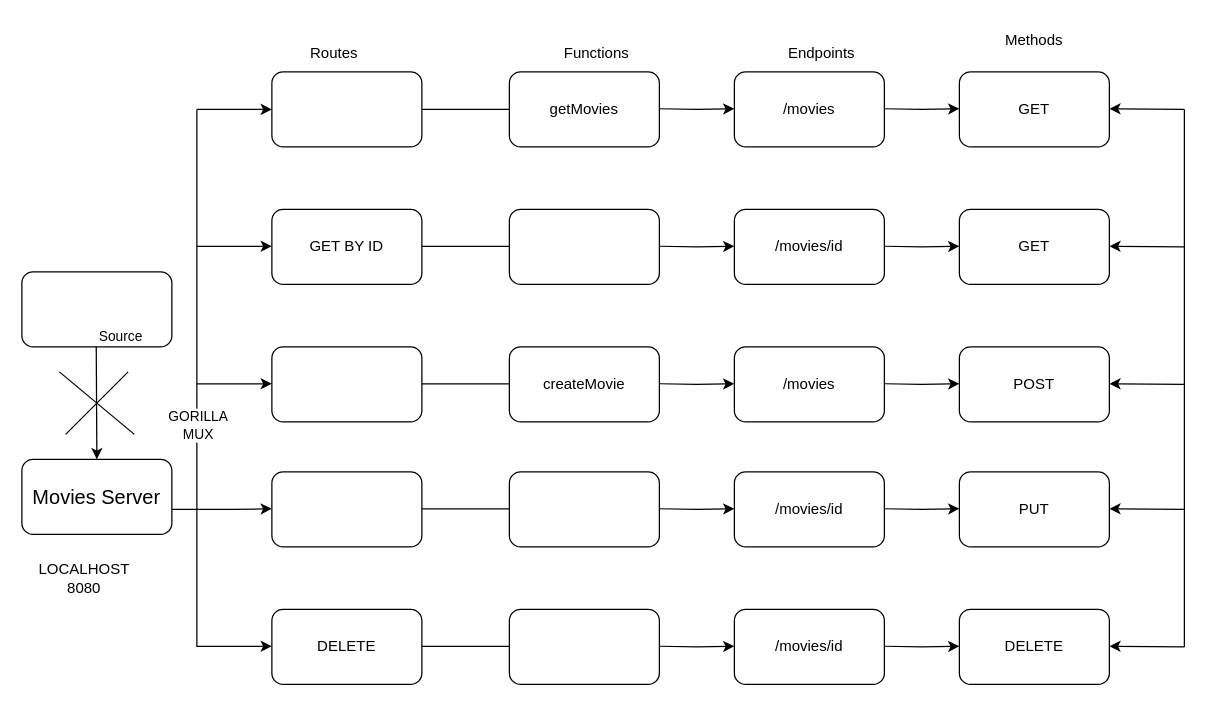
This 1216x706 diagram has some shape labels left out. The box of each missing label's shape, as (x1, y1, x2, y2) in pixels:
CREATE: (271, 346, 422, 422)
Database: (21, 271, 172, 347)
deleteMovie: (508, 608, 659, 684)
GET ALL: (271, 71, 422, 147)
getMovie: (508, 208, 659, 284)
UPDATE: (271, 471, 422, 547)
updateMovie: (508, 471, 659, 547)
